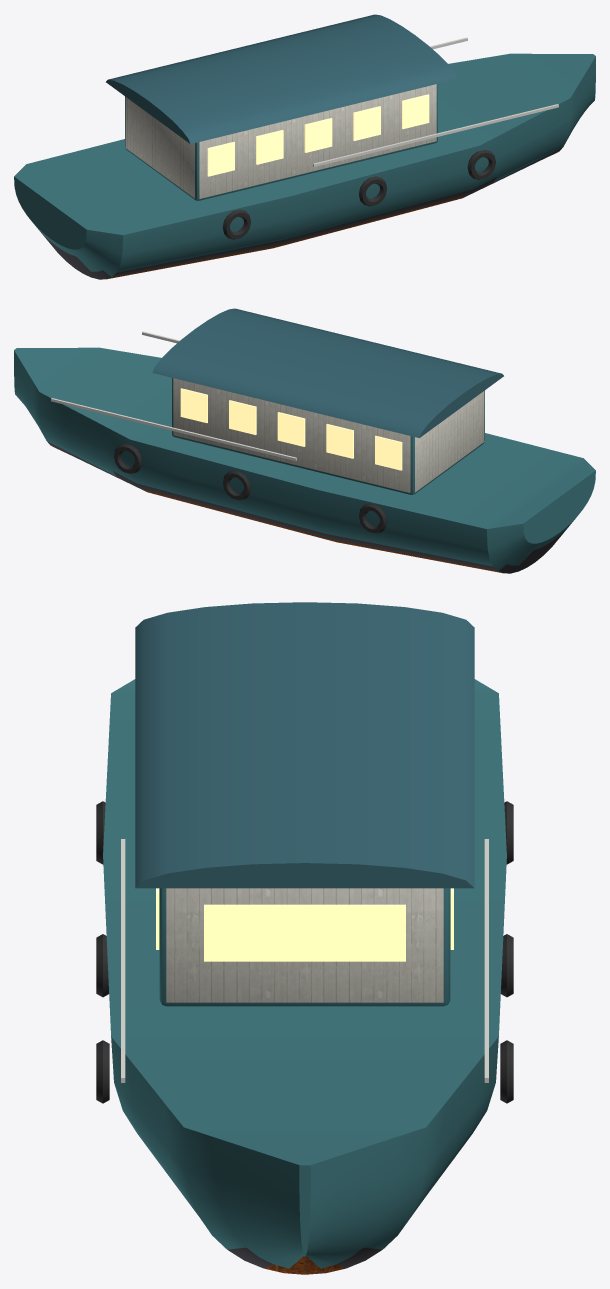
Rendered from rainport_ferry.glb.
The picture shows the model from 3 angles, top to bottom: view 1: azimuth 30°, elevation 25°; view 2: azimuth 150°, elevation 25°; view 3: azimuth 270°, elevation 25°; orthographic projection. The views are drawn at different scales.
Parts seen in each view (by area): view 1: rainport_ferry; view 2: rainport_ferry; view 3: rainport_ferry.
Boxes of the visible parts, box(x1,y1,x2,y2) form: rainport_ferry: box(14, 14, 595, 279); rainport_ferry: box(14, 308, 595, 573); rainport_ferry: box(96, 602, 513, 1274).
Size of the model in its own units: 11.2 by 3.15 by 3.72.
8 materials, 2 textured.
